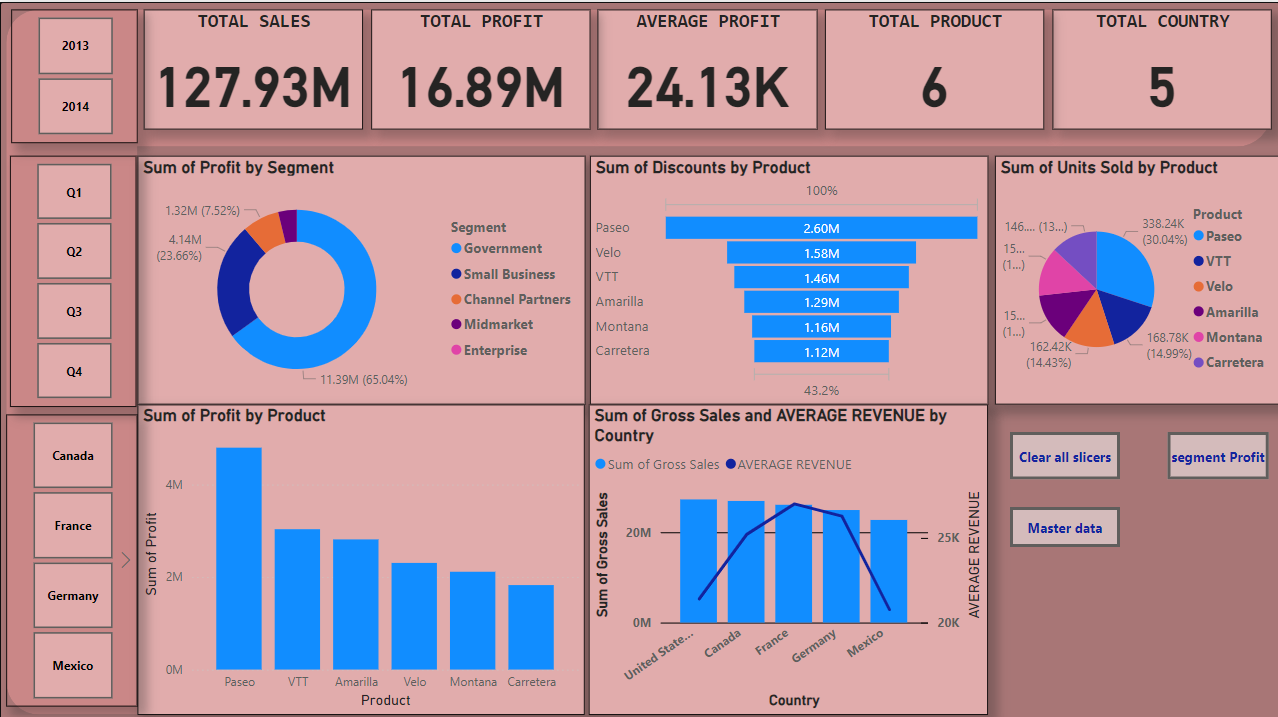

This screenshot's page, from the dashboard's own definition file:
{"tool":"powerbi","page":{"name":"Page 1","canvas":[1280,720],"ordinal":0},"visuals":[{"type":"shape","box":[6.8,7.8,131.3,705.2],"z":0},{"type":"shape","box":[131.3,7.8,1139.9,137.1],"z":1000},{"type":"card","title":"TOTAL SALES","fields":{"Values":["Sum(financials.Gross Sales)"]},"box":[144,7.8,218.8,119.6],"z":2000},{"type":"card","title":"TOTAL COUNTRY","fields":{"Values":["MEASUREMENTS.TOATAL NO:OF COUNTRY"]},"box":[1052.4,7.8,218.8,119.6],"z":3000},{"type":"card","title":"AVERAGE PROFIT","fields":{"Values":["financials.AVERAGE REVENUE"]},"box":[597.7,7.8,219.8,119.6],"z":4000},{"type":"card","title":"TOTAL  PROFIT","fields":{"Values":["Sum(financials.Profit)"]},"box":[370.8,7.8,218.8,119.6],"z":5000},{"type":"card","title":"TOTAL PRODUCT","fields":{"Values":["MEASUREMENTS.PRODUCT COUNT"]},"box":[825.5,7.8,218.8,119.6],"z":6000},{"type":"donutChart","fields":{"Y":["Sum(financials.Profit)"],"Category":["financials.Segment"]},"box":[138.1,153.7,448.4,249],"z":7000},{"type":"lineClusteredColumnComboChart","fields":{"Category":["financials.Product"],"Y":["Sum(financials.Profit)"]},"box":[138.1,402.7,447.4,310.3],"z":8000},{"type":"funnel","fields":{"Category":["financials.Product"],"Y":["Sum(financials.Discounts)"]},"box":[589.4,153.7,398.8,249],"z":9000},{"type":"lineStackedColumnComboChart","fields":{"Y":["Sum(financials.Gross Sales)"],"Y2":["financials.AVERAGE REVENUE"],"Category":["financials.Country"]},"box":[589,403,399,310],"z":10000},{"type":"pieChart","fields":{"Y":["Sum(financials.Units Sold)"],"Category":["financials.Product"]},"box":[995,153.8,285,248.8],"z":11000},{"type":"slicer","fields":{"Values":["financials.Year"]},"box":[11.7,7.8,126.4,133.3],"z":12000},{"type":"slicer","fields":{"Values":["financials.QYATER YEAR"]},"box":[9.7,153.7,126.4,250.9],"z":13000},{"type":"slicer","fields":{"Values":["financials.Country"]},"box":[6.8,412.4,131.3,291.8],"z":14000},{"type":"actionButton","box":[1010,430,110,47.5],"z":15001},{"type":"actionButton","box":[1167.5,430,101.2,47.5],"z":15002},{"type":"actionButton","box":[1010,505,110,40],"z":15004}]}

Visuals, with their boxes in screenshot pixels (x1, y1, x2, y2), scaled from the page's 1280x720 canvas onto the 1278x717 screenshot:
shape: [left=7, top=8, right=138, bottom=710]
shape: [left=131, top=8, right=1269, bottom=144]
"TOTAL SALES" card: [left=144, top=8, right=362, bottom=127]
"TOTAL COUNTRY" card: [left=1051, top=8, right=1269, bottom=127]
"AVERAGE PROFIT" card: [left=597, top=8, right=816, bottom=127]
"TOTAL  PROFIT" card: [left=370, top=8, right=589, bottom=127]
"TOTAL PRODUCT" card: [left=824, top=8, right=1043, bottom=127]
donutChart - Sum(financials.Profit) x financials.Segment: [left=138, top=153, right=586, bottom=401]
lineClusteredColumnComboChart - financials.Product x Sum(financials.Profit): [left=138, top=401, right=585, bottom=710]
funnel - financials.Product x Sum(financials.Discounts): [left=588, top=153, right=987, bottom=401]
lineStackedColumnComboChart - Sum(financials.Gross Sales) x financials.AVERAGE REVENUE: [left=588, top=401, right=986, bottom=710]
pieChart - Sum(financials.Units Sold) x financials.Product: [left=993, top=153, right=1277, bottom=401]
slicer - financials.Year: [left=12, top=8, right=138, bottom=141]
slicer - financials.QYATER YEAR: [left=10, top=153, right=136, bottom=403]
slicer - financials.Country: [left=7, top=411, right=138, bottom=701]
actionButton: [left=1008, top=428, right=1118, bottom=476]
actionButton: [left=1166, top=428, right=1267, bottom=476]
actionButton: [left=1008, top=503, right=1118, bottom=543]
